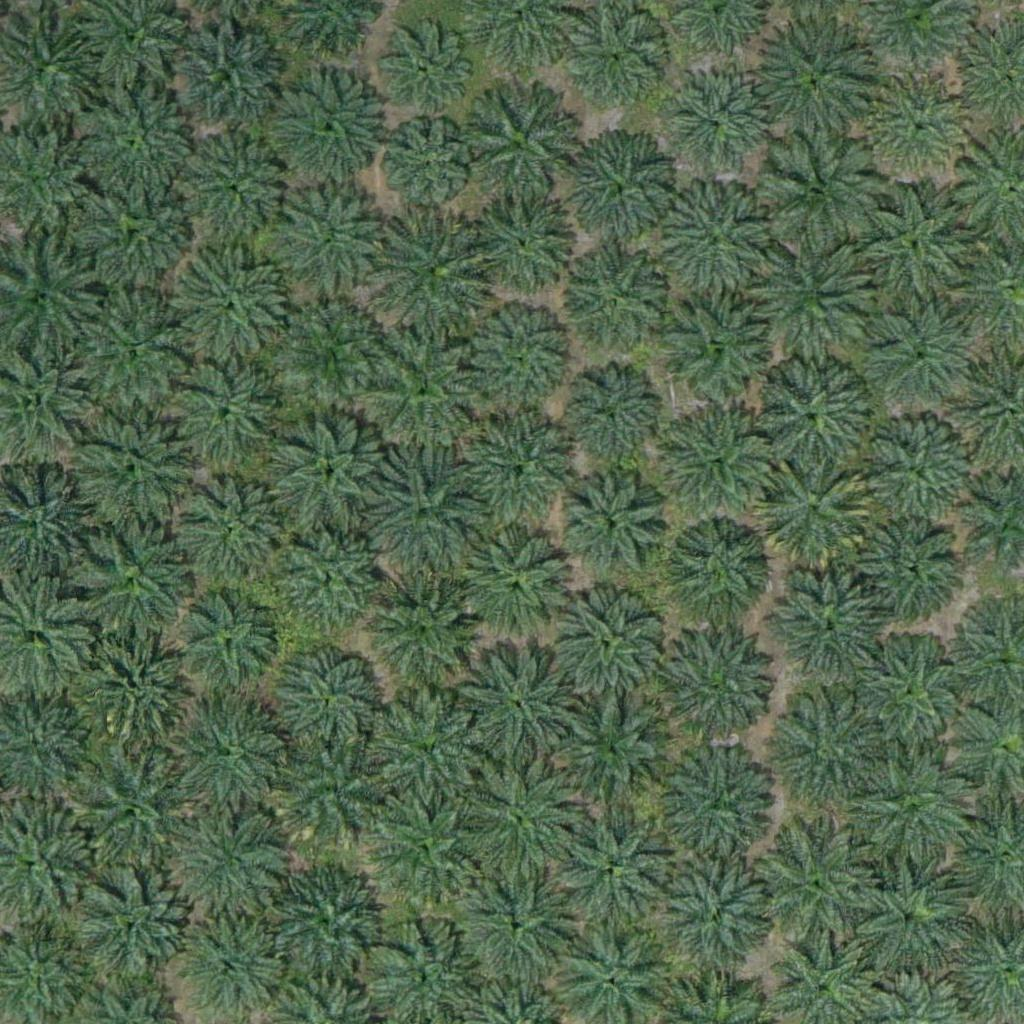Kelapa_Sawit: (849, 187, 974, 313), (747, 359, 872, 485), (741, 238, 866, 364), (765, 134, 890, 260), (754, 17, 879, 143), (656, 286, 781, 412), (358, 456, 483, 582), (373, 210, 498, 336), (269, 419, 394, 545), (851, 631, 976, 757), (69, 408, 194, 534), (69, 290, 194, 416), (76, 174, 201, 300), (76, 90, 201, 216), (80, 617, 205, 743), (70, 740, 195, 866), (71, 869, 196, 995), (166, 807, 291, 933), (167, 697, 292, 823), (264, 860, 389, 986), (453, 755, 578, 881), (455, 859, 580, 985), (656, 623, 781, 749), (659, 741, 784, 867), (752, 823, 877, 949), (759, 691, 884, 817), (764, 563, 889, 689), (848, 754, 973, 880), (842, 857, 967, 983), (754, 456, 879, 581), (656, 398, 781, 523), (454, 641, 579, 766), (555, 803, 680, 928), (555, 691, 680, 816), (655, 854, 780, 979), (862, 69, 975, 183), (170, 356, 283, 470), (183, 479, 296, 593), (865, 299, 978, 412), (863, 413, 976, 526), (461, 88, 574, 201), (464, 296, 577, 409), (179, 253, 292, 366), (275, 525, 388, 638), (368, 689, 481, 802), (270, 644, 383, 757), (277, 742, 390, 855), (665, 66, 777, 179), (660, 188, 772, 301), (562, 134, 674, 247), (468, 417, 580, 530), (362, 334, 474, 447), (273, 76, 385, 189), (273, 188, 385, 301), (78, 527, 190, 640), (368, 568, 480, 681), (464, 530, 576, 643), (858, 514, 958, 615), (668, 514, 768, 615), (563, 474, 663, 575), (555, 367, 655, 468), (565, 250, 665, 351), (563, 9, 663, 110), (471, 195, 571, 296), (376, 119, 476, 220), (372, 19, 472, 120), (277, 301, 377, 402), (169, 32, 269, 133), (196, 139, 296, 240), (178, 594, 278, 695), (376, 795, 476, 896), (558, 597, 658, 698)
